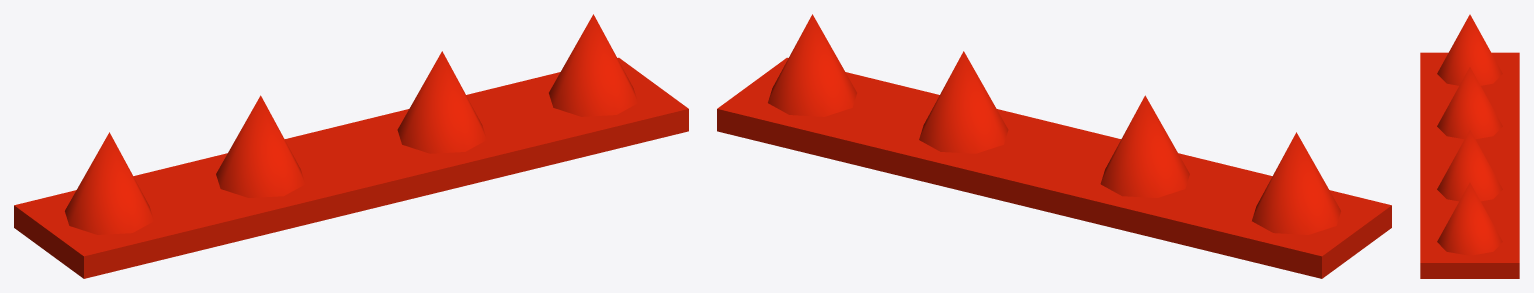
Rendered from ATM_Rush_Barrier.fbx.
3 renders of one model, left to right at view 1: azimuth 30°, elevation 25°; view 2: azimuth 150°, elevation 25°; view 3: azimuth 270°, elevation 25°, orthographic. The views are drawn at different scales.
Visible parts, largest first — view 1: barbed_Obstacles; view 2: barbed_Obstacles; view 3: barbed_Obstacles.
Boxes of the visible parts, left/top/right/bottom form: barbed_Obstacles: left=14, top=14, right=688, bottom=278; barbed_Obstacles: left=717, top=14, right=1391, bottom=278; barbed_Obstacles: left=1420, top=14, right=1519, bottom=278.
Bounding box in the file's own units: 300 × 50.5 × 60.
